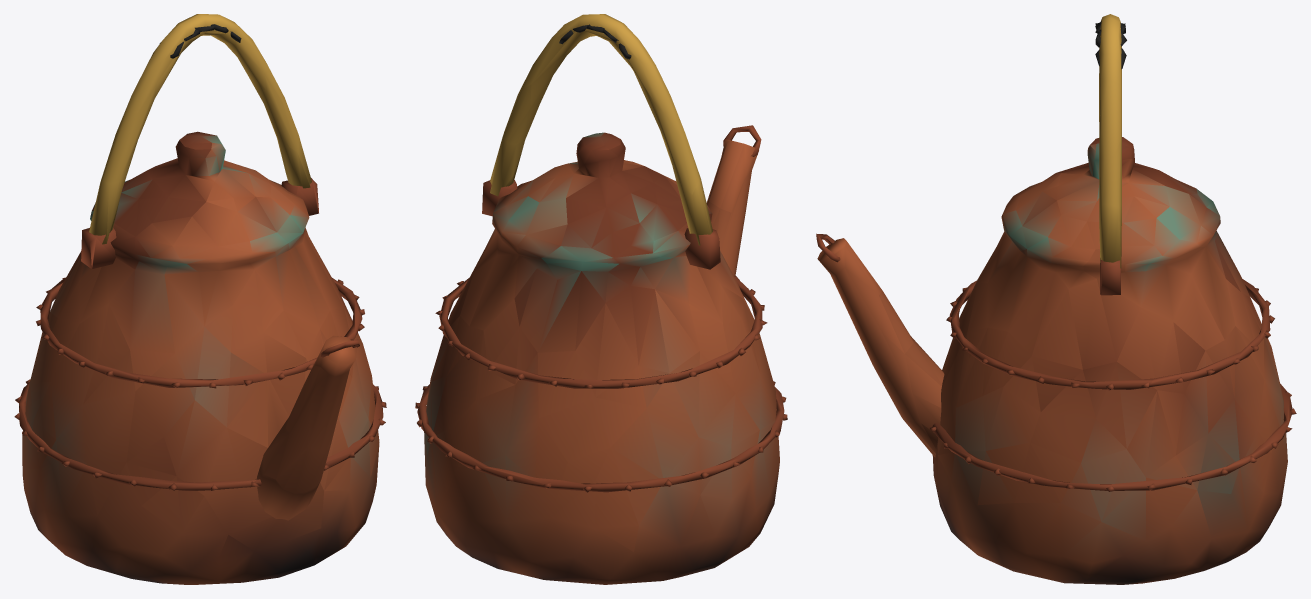
Rendered from ember_kettle_lod2.glb.
3 views of the same model, side by side, from view 1: azimuth 30°, elevation 25°; view 2: azimuth 150°, elevation 25°; view 3: azimuth 270°, elevation 25° (orthographic).
Parts seen in each view (by area): view 1: ember_kettle.001; view 2: ember_kettle.001; view 3: ember_kettle.001.
Part boxes in pixels (bbox=[...]): ember_kettle.001: bbox=[14, 14, 386, 584]; ember_kettle.001: bbox=[415, 14, 787, 584]; ember_kettle.001: bbox=[816, 14, 1296, 584].
Bounding box in the file's own units: 27.26 × 40.84 × 35.19.
